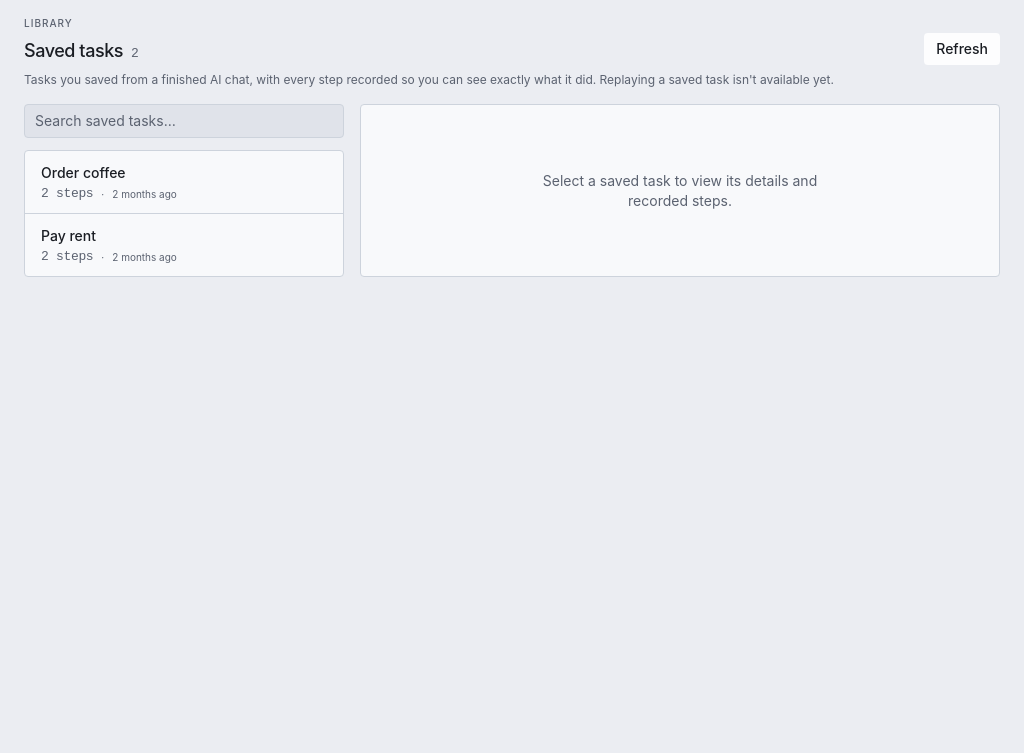
Test: RecipesView detail half › CRITICAL renders every intent kind with its optional fields present and absent
This screenshot has width=1024, height=753.
Click the button "Order coffee 2 steps · 2 months ago" at (83, 172), box x1=25 y1=151 x2=343 y2=213
(page scrolled)
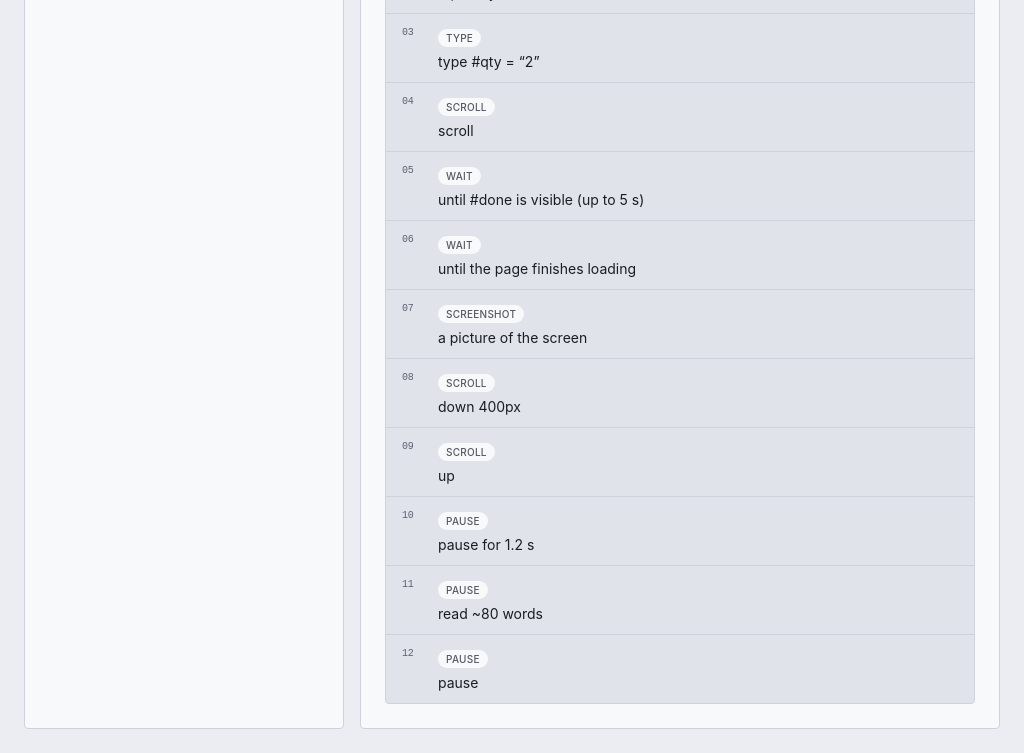
Check: the text "type #qty = “2”" is shown, box x1=438 y1=53 x2=540 y2=70
Check: the text "scroll" is shown once, box x1=438 y1=122 x2=474 y2=139
Check: the text "Scroll" is shown 3 times, box x1=438 y1=98 x2=495 y2=116; x1=438 y1=374 x2=495 y2=392; x1=438 y1=443 x2=495 y2=461
